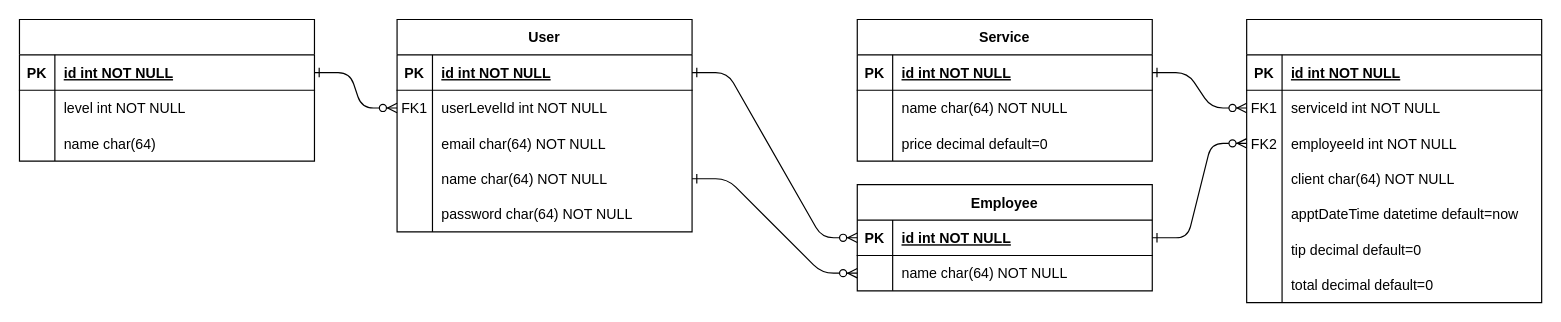
Image size: 1561x322. Some labels were removed from this diagram. Here are the shapes that lost their labels. From the top down, the box of each, then its label:
(18, 18, 314, 161): UserLevel
(1245, 18, 1542, 303): Appointment
